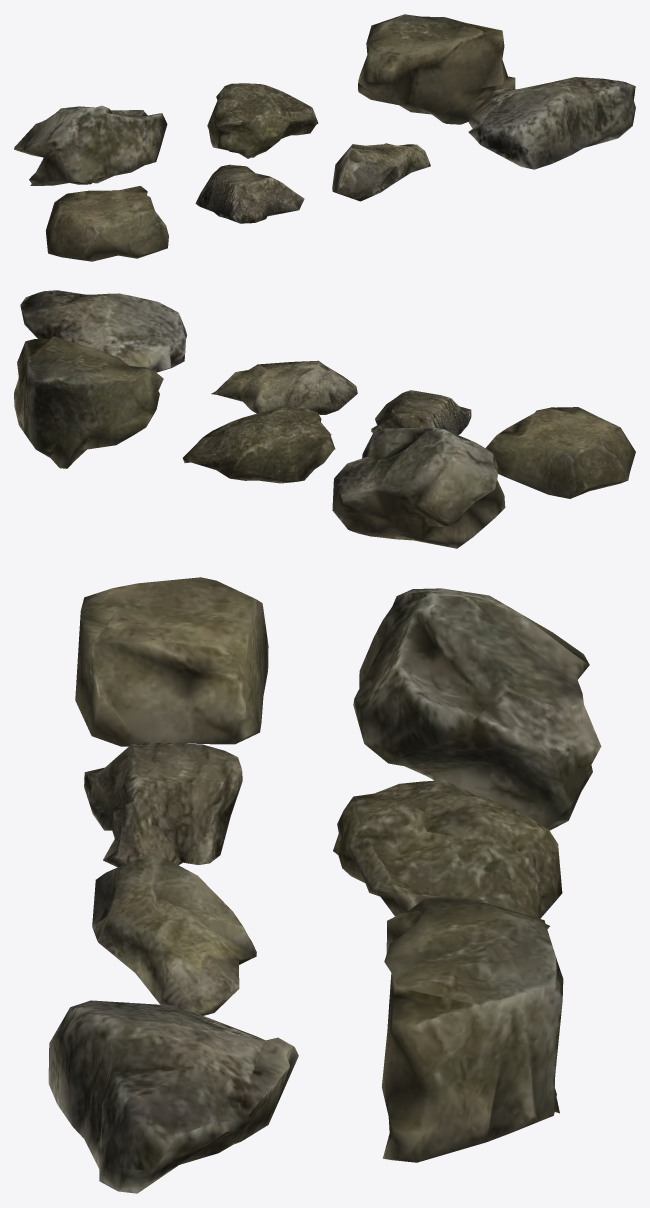
The model's file is rocks_b.glb.
The picture shows the model from 3 angles, top to bottom: view 1: azimuth 30°, elevation 25°; view 2: azimuth 150°, elevation 25°; view 3: azimuth 270°, elevation 25°; orthographic projection. The views are drawn at different scales.
Parts seen in each view (by area): view 1: rock_moss_set_02_rock08; view 2: rock_moss_set_02_rock08; view 3: rock_moss_set_02_rock08.
Part boxes in pixels (box(x1,y1,x2,y2)): rock_moss_set_02_rock08: box(14, 14, 635, 261); rock_moss_set_02_rock08: box(14, 290, 635, 548); rock_moss_set_02_rock08: box(48, 577, 601, 1193).
Bounding box in the file's own units: 8.26 × 1.36 × 3.4.
1 material, 1 textured.
